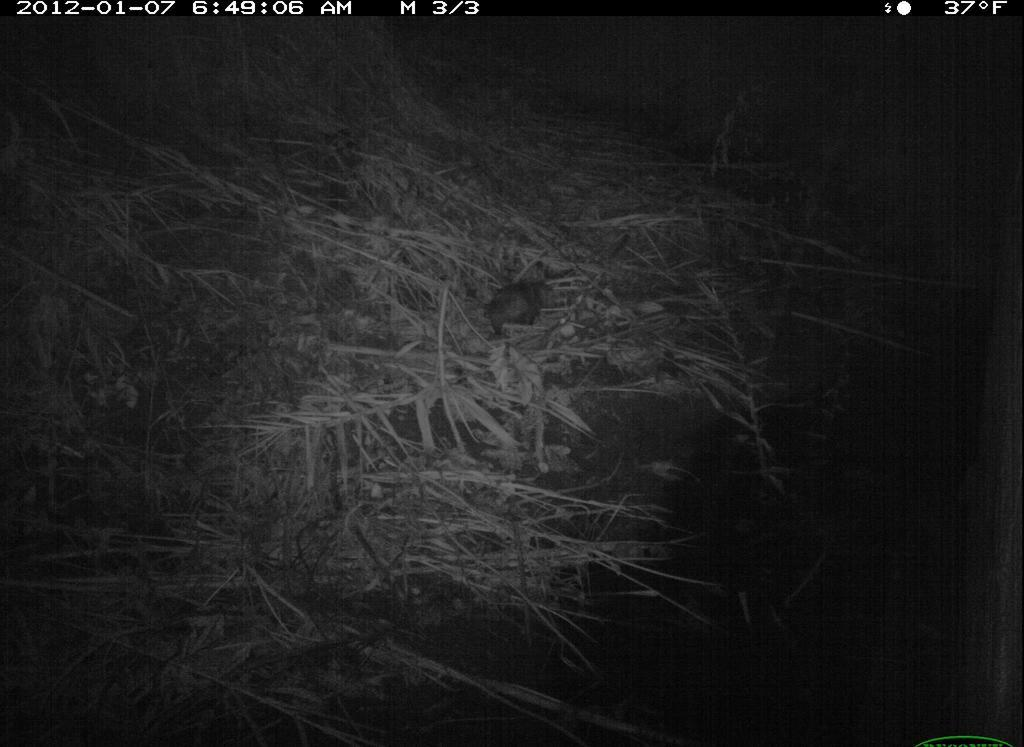opossum: (466, 255, 579, 350)
